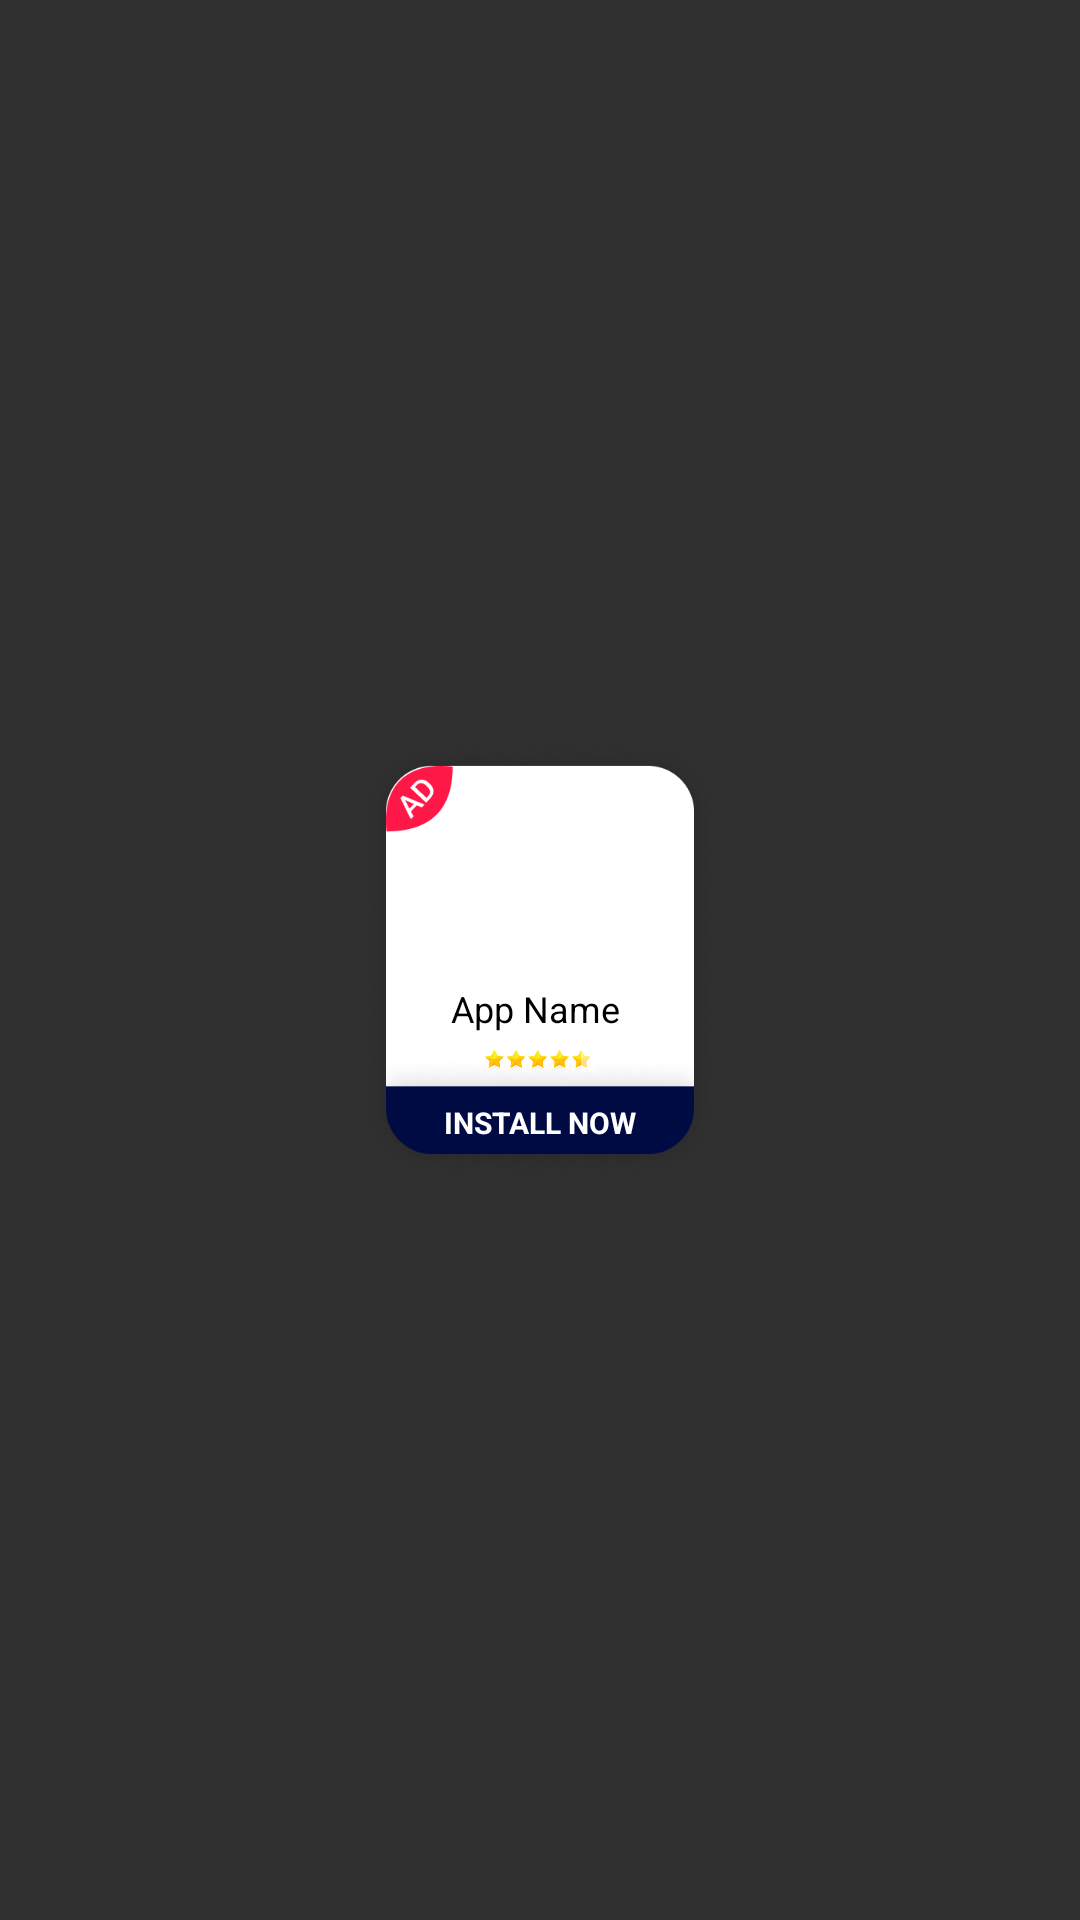

Locate icon controls on the screen. Image size 1080px×1920px, boxes as (left=x1, top=y1, right=x2, bottom=y2).
rate stars: (left=485, top=1050, right=591, bottom=1068)
